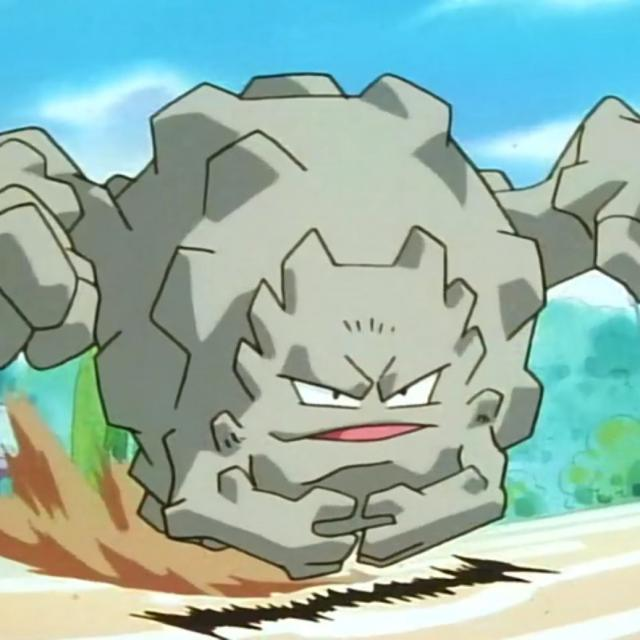Graveler: (79, 66, 572, 570)
